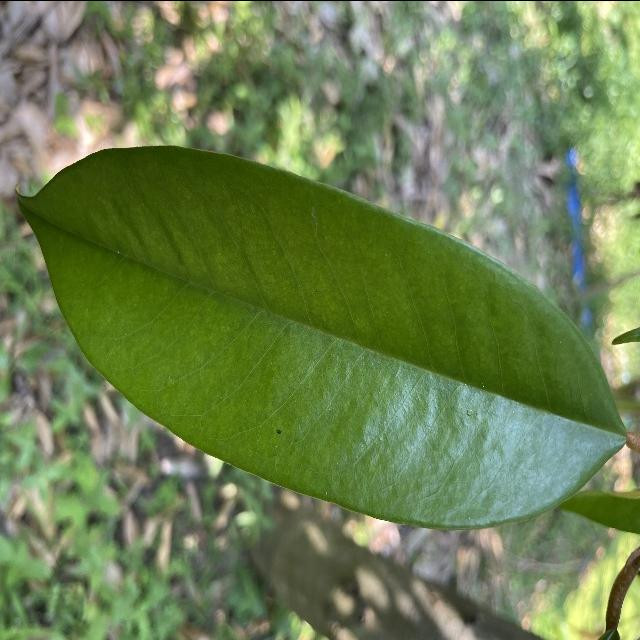No Disease: (1, 134, 635, 541)
